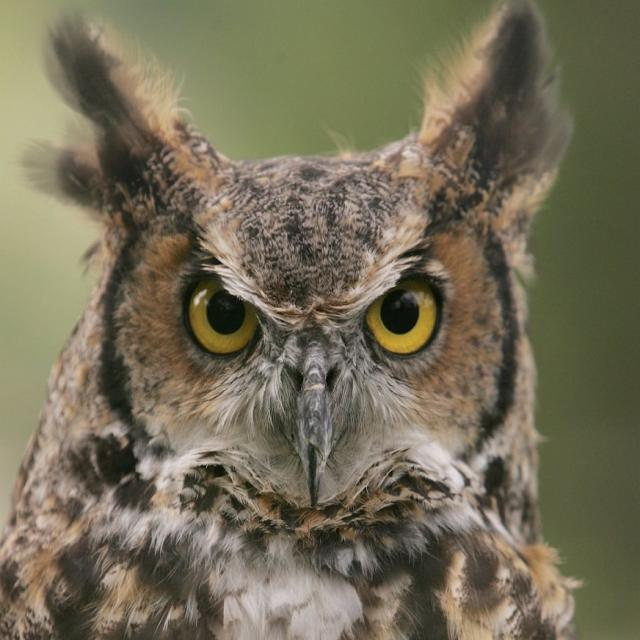Owl: (15, 8, 578, 640)
